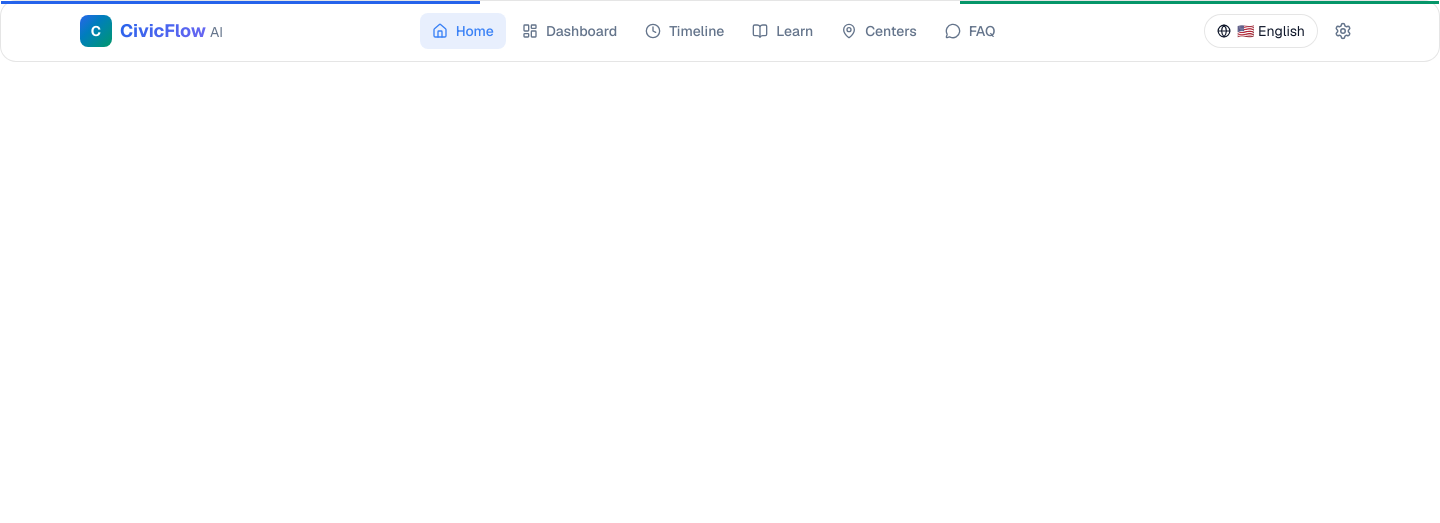
Navbar Component › should toggle language dropdown when globe is clicked
Expected: the navigation bar is shown, [0,0,1439,62]
Click the button with aria-label "change language" at (1261, 31), box [1204,14,1318,48]
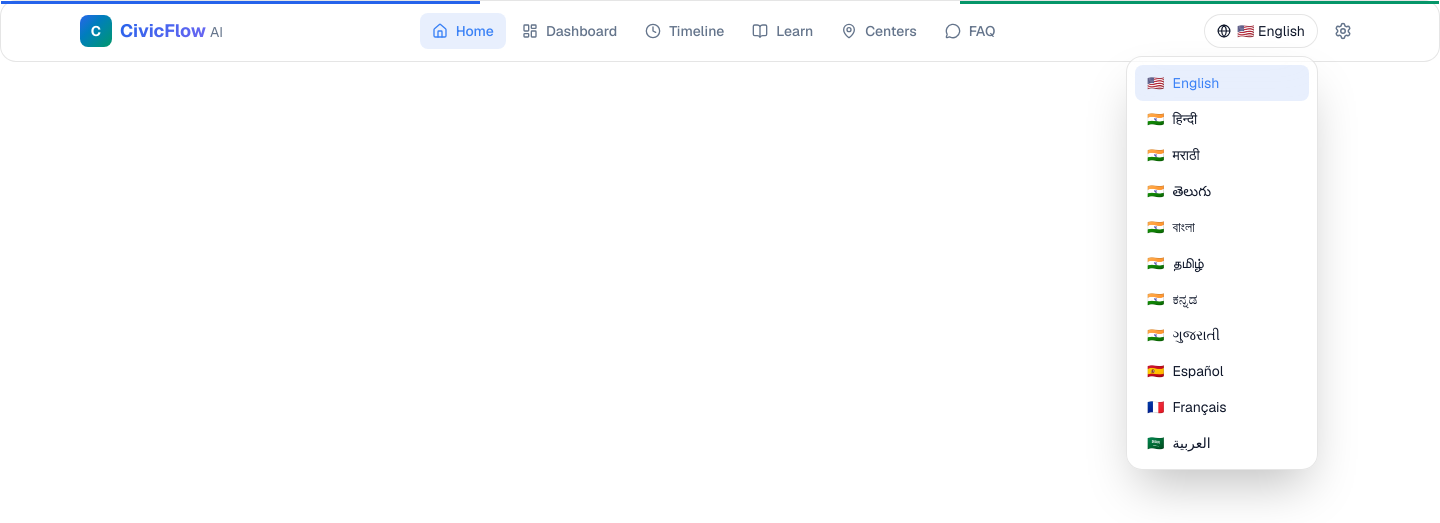
Expected: the text "हिन्दी" is shown, [1172,109,1197,129]
